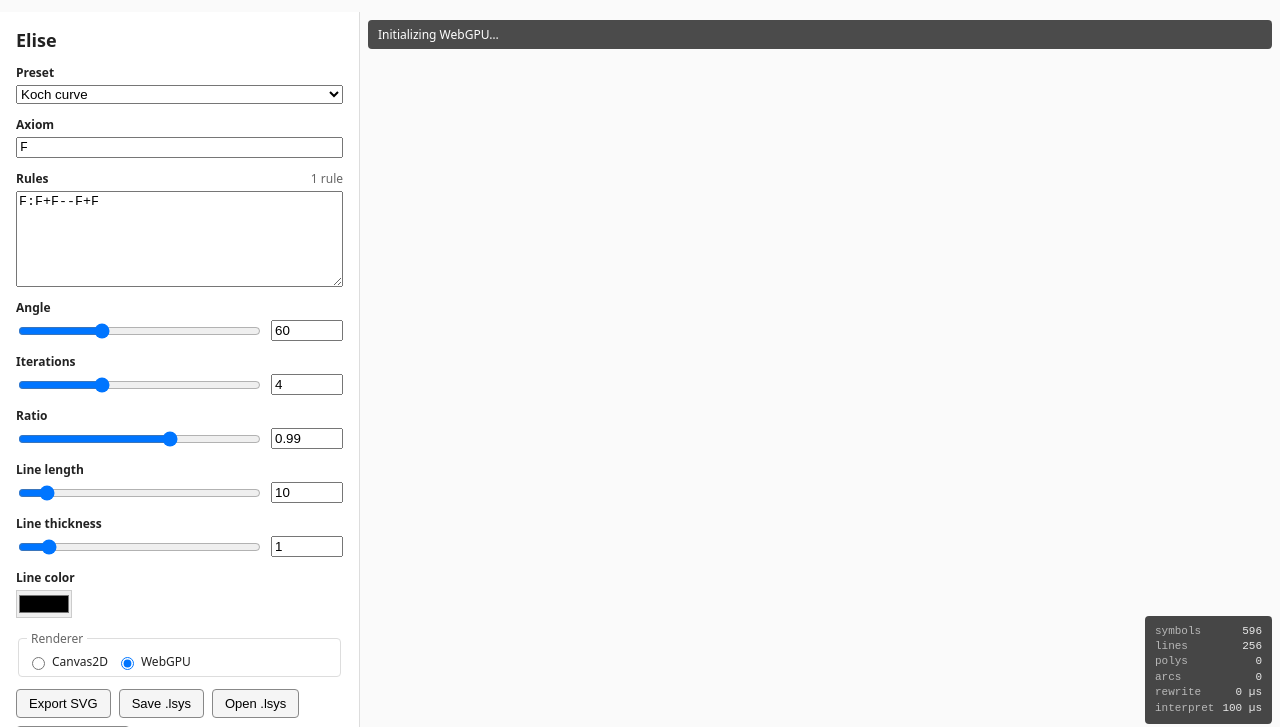
Test: App › reset to preset restores axiom after edits
Select "Dragon curve" in the dropdown labelled "Preset" at (180, 94), box [16, 85, 343, 104]
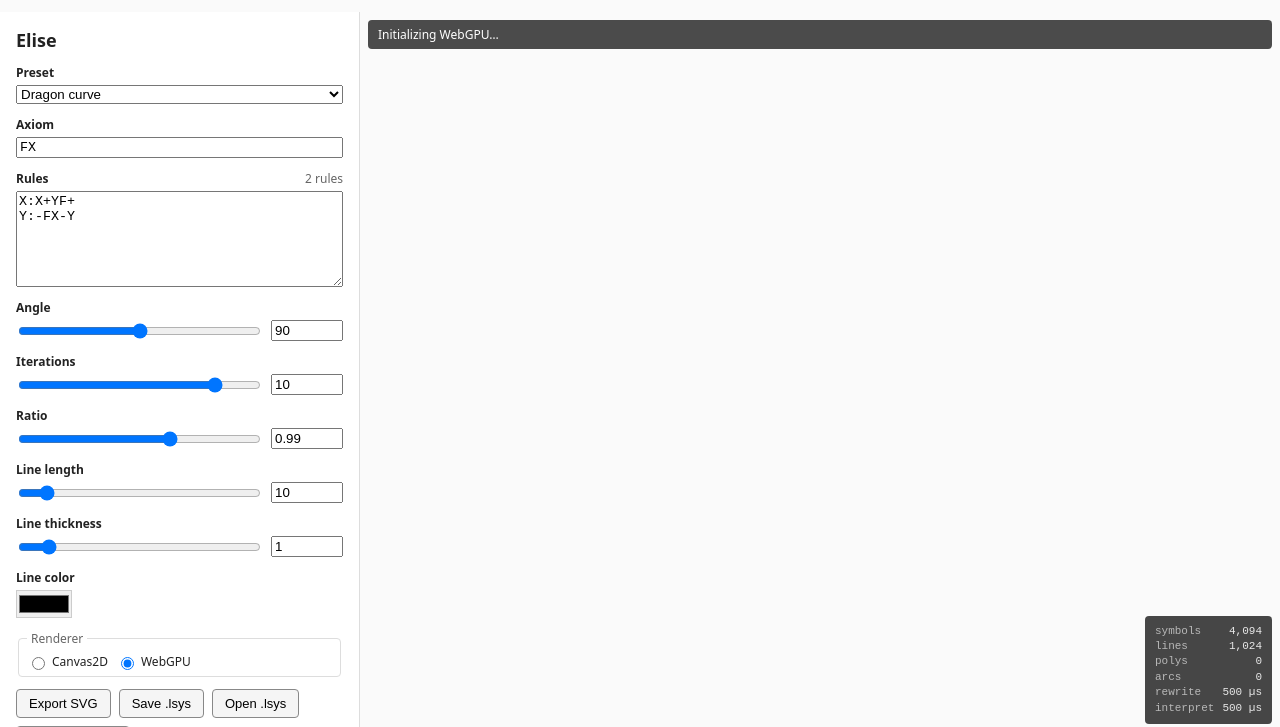
Replace the text in the field labelled "Axiom" with "GARBAGE" at (180, 148), box [16, 137, 343, 158]
(page scrolled)
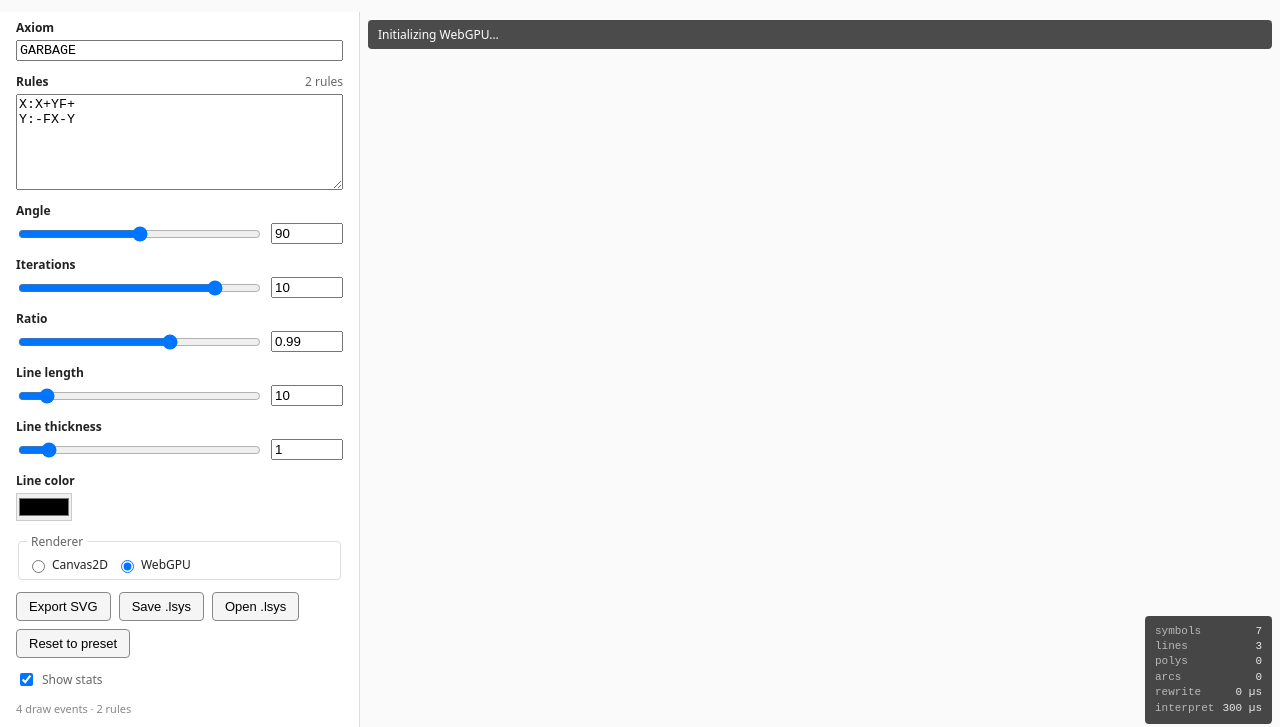
Click the button "Reset to preset" at (73, 644), box [16, 629, 130, 658]
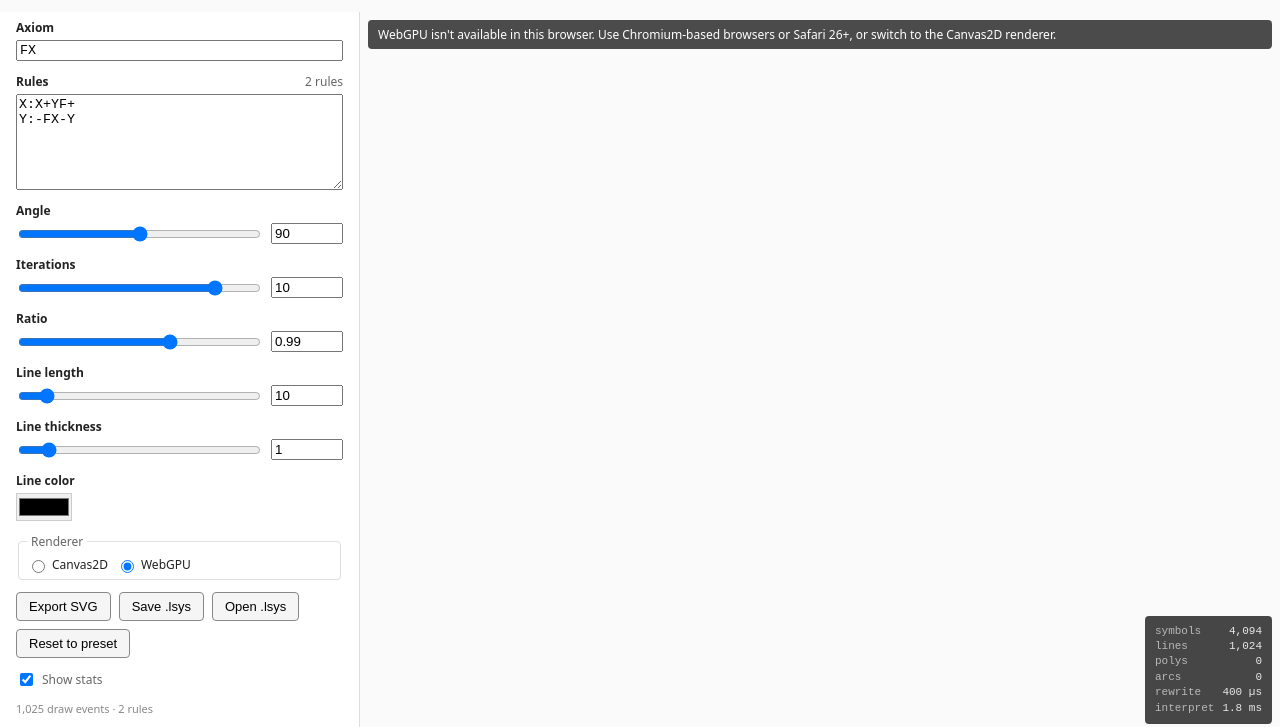
Now the field labelled "Axiom" holds "FX", box [16, 40, 343, 61]
